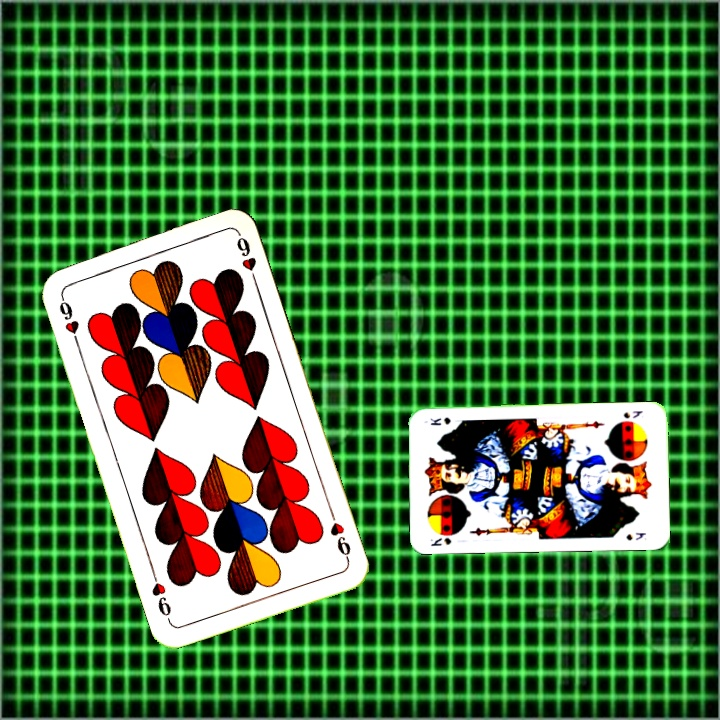H9: (325, 507, 354, 564), (55, 291, 82, 349)
SK: (426, 533, 453, 549), (619, 407, 645, 421)
